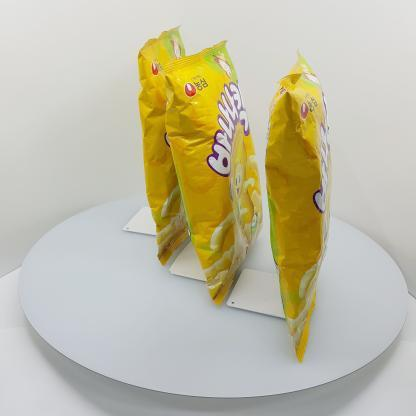Plastic Packaging: (128, 19, 264, 311)
